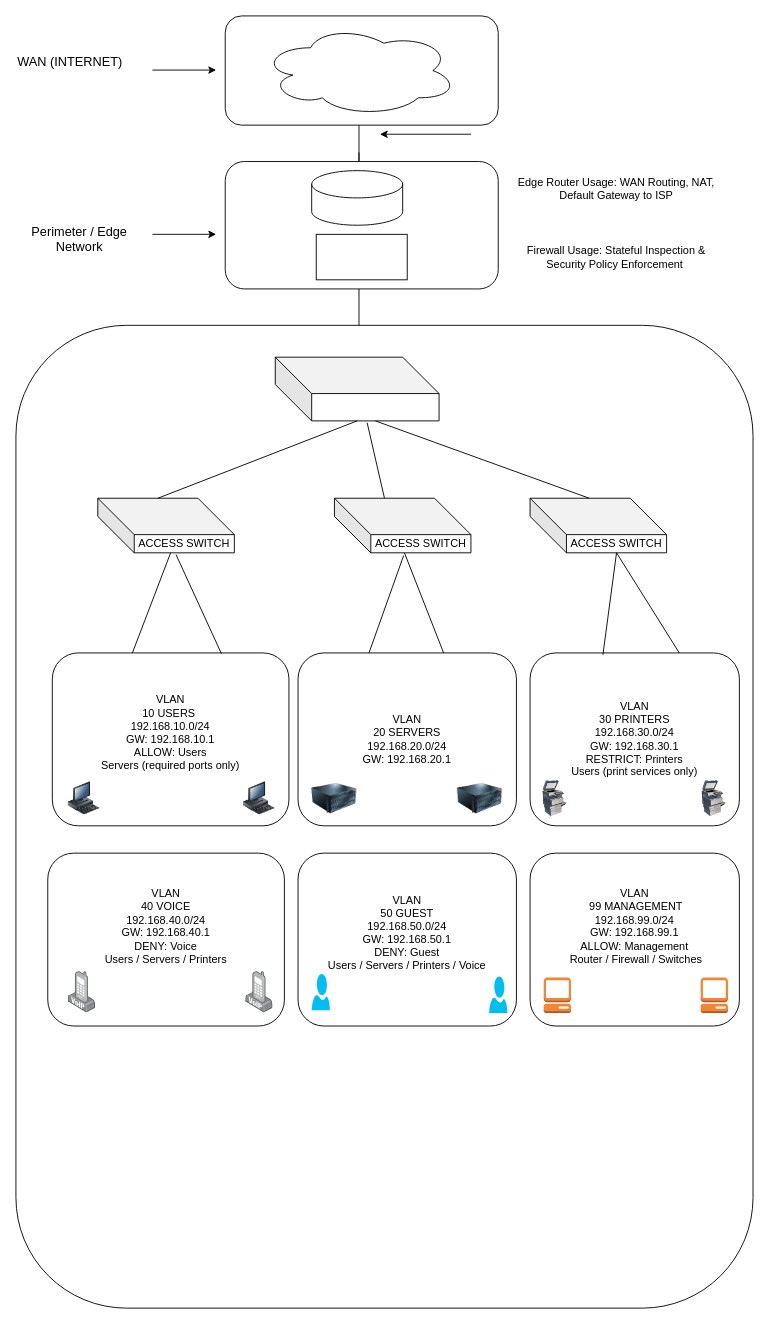
Some shapes in this 769 by 1324 pixel diagram are drawn without their labels. The centre of each missing label's shape, as x and y in pixels:
"CORE SWITCH" belongs at (356,388).
"EDGE ROUTER" belongs at (357,197).
"FIREWALL" belongs at (361,256).
"INTERNET ISP" belongs at (359,70).
